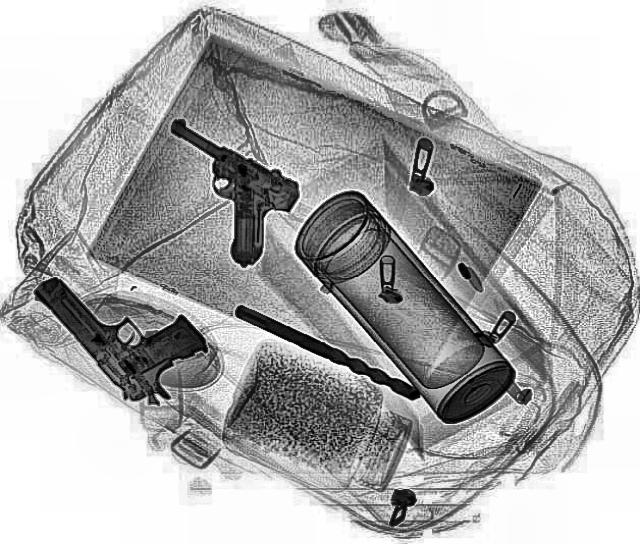Gun: (104, 111, 320, 269), (29, 242, 228, 413)
